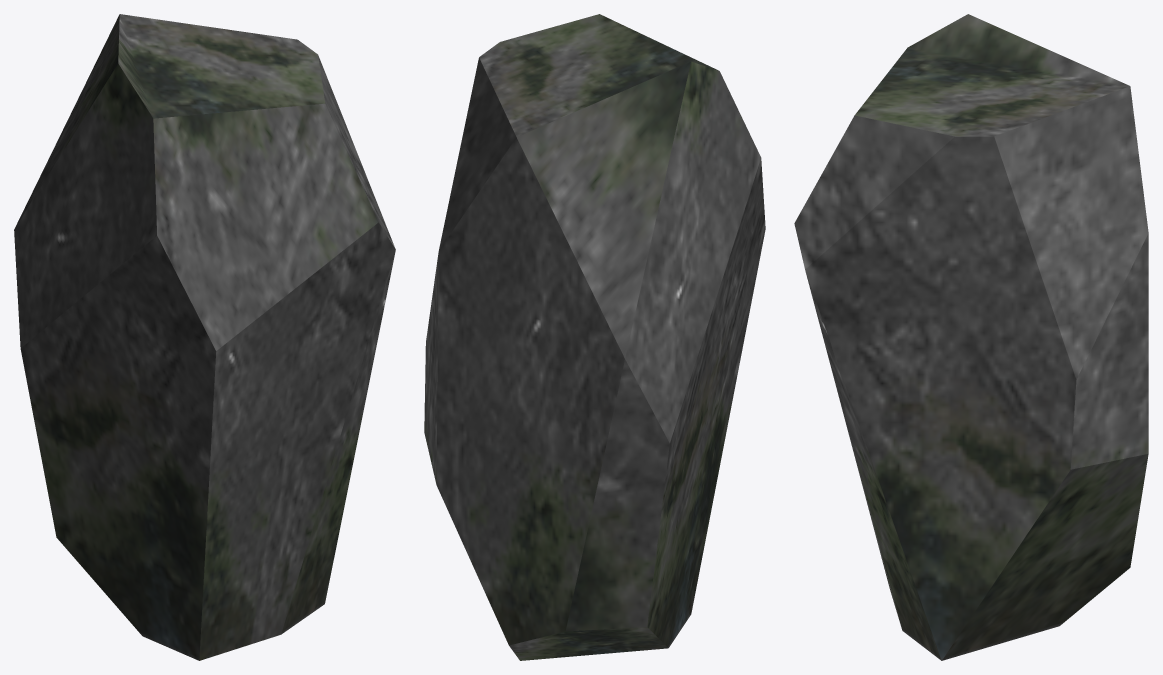
The model's file is wld_rock.glb.
The picture shows the model from 3 angles, left to right: view 1: azimuth 30°, elevation 25°; view 2: azimuth 150°, elevation 25°; view 3: azimuth 270°, elevation 25°; orthographic projection. The views are drawn at different scales.
Parts seen in each view (by area): view 1: big rock; view 2: big rock; view 3: big rock.
Part boxes in pixels (box(x1,y1,x2,y2)): big rock: box(14, 14, 395, 660); big rock: box(424, 14, 765, 660); big rock: box(794, 14, 1148, 660).
Size of the model in its own units: 1.69 by 3.8 by 2.19.
Materials: 1 (1 with a texture image).
